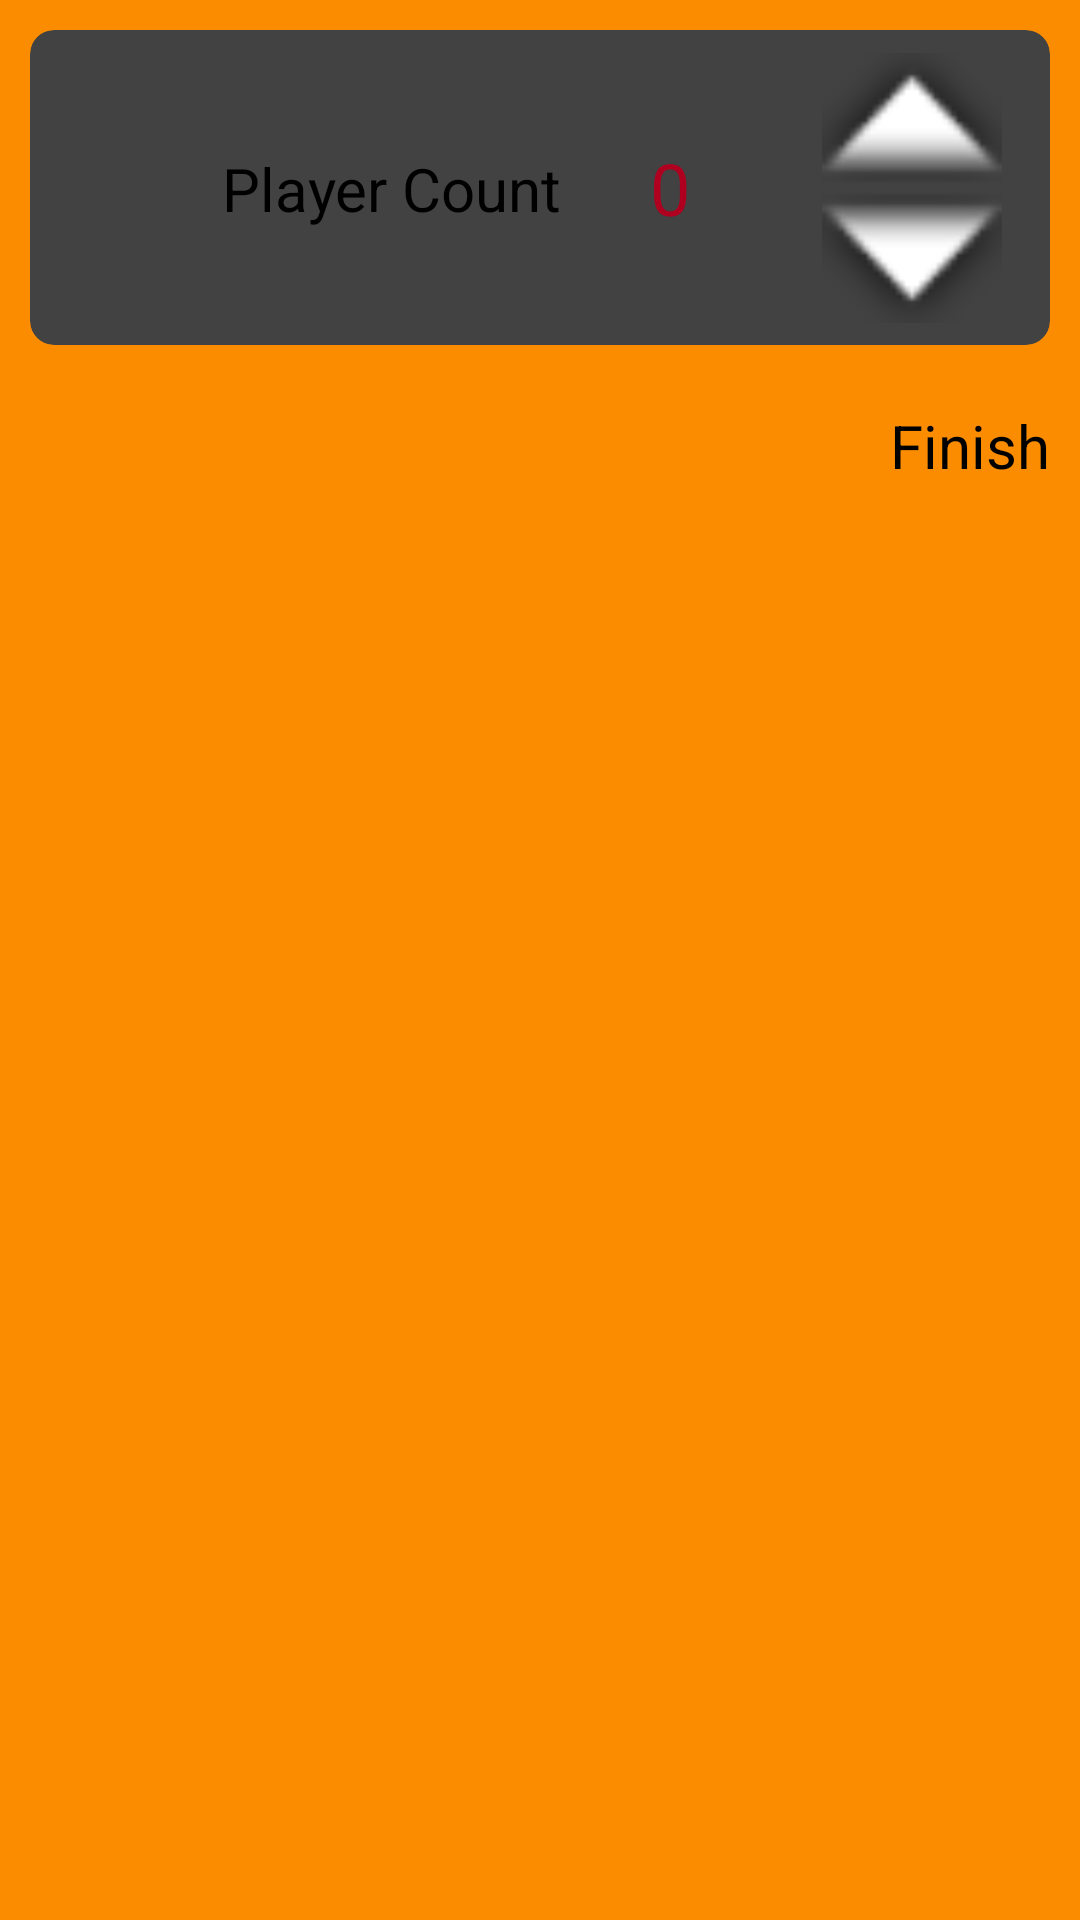

Screen size 1080×1920. Icon name, then its box in pixels as box(x1, y1, x2, y2):
arrow down float: box(830, 207, 994, 301)
arrow up float: box(830, 75, 994, 169)
